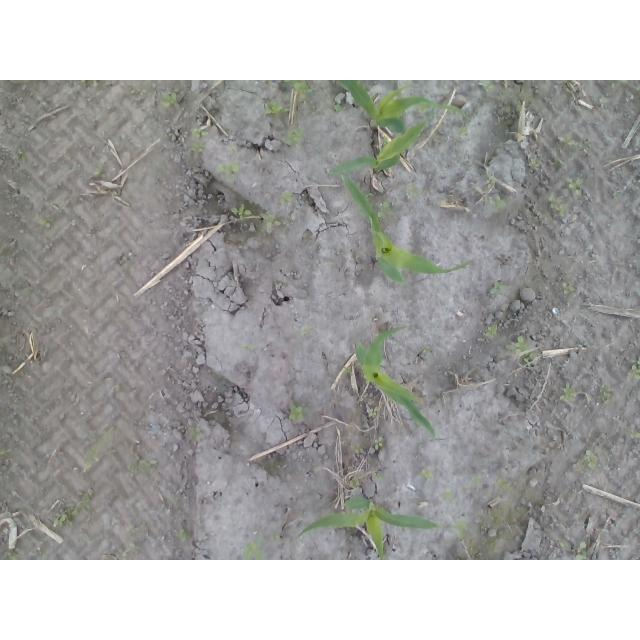Maize: (340, 172, 477, 287), (295, 492, 442, 560), (355, 323, 438, 442), (338, 80, 463, 136), (327, 120, 425, 176)
Weeds: (48, 489, 93, 528), (511, 335, 537, 367), (242, 533, 266, 560), (549, 192, 570, 217), (576, 448, 597, 472), (261, 210, 281, 234), (215, 163, 240, 182), (565, 176, 584, 199), (128, 459, 157, 474), (487, 281, 511, 299), (281, 190, 304, 208), (192, 128, 209, 152), (230, 203, 252, 221), (158, 89, 179, 107), (559, 383, 578, 402), (266, 99, 290, 114), (627, 354, 640, 381), (287, 402, 305, 421), (377, 199, 394, 219), (84, 447, 97, 473), (288, 126, 305, 144), (453, 520, 468, 540), (1, 446, 16, 466), (287, 80, 308, 94), (482, 323, 498, 339), (478, 80, 496, 94), (481, 172, 495, 189), (406, 181, 417, 202), (574, 541, 586, 560), (40, 217, 56, 231), (470, 472, 483, 489), (189, 424, 202, 441), (489, 199, 508, 210), (495, 478, 512, 490), (126, 87, 146, 97), (374, 435, 387, 450), (598, 383, 608, 401), (240, 343, 257, 353), (608, 80, 625, 90), (352, 442, 365, 455), (528, 158, 541, 170), (373, 470, 386, 482), (421, 466, 432, 480), (455, 127, 469, 138), (179, 530, 190, 543), (489, 506, 499, 520), (349, 479, 364, 488), (562, 135, 575, 145), (95, 167, 106, 178), (423, 345, 433, 356), (272, 533, 281, 544), (7, 552, 18, 561), (343, 368, 354, 377), (226, 143, 237, 152), (368, 407, 377, 417), (363, 191, 373, 200), (629, 430, 640, 438), (334, 104, 344, 112), (559, 542, 569, 548)
